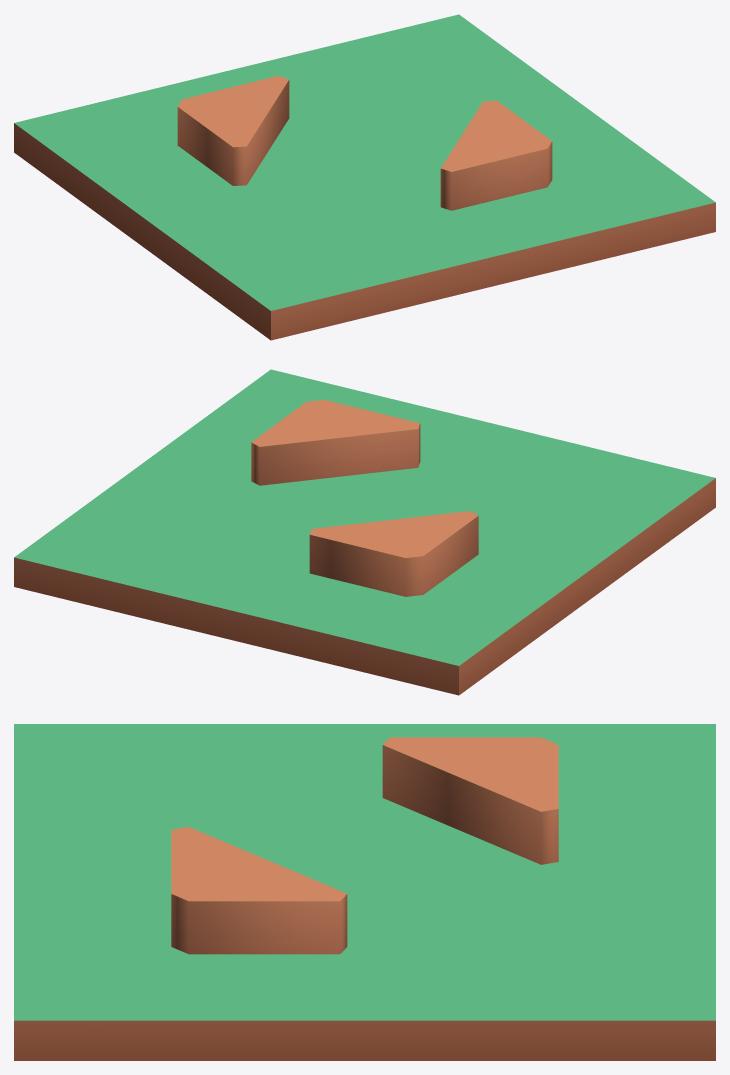
File: obstacle-triangle.glb
3 renders of one model, top to bottom at view 1: azimuth 30°, elevation 25°; view 2: azimuth 150°, elevation 25°; view 3: azimuth 270°, elevation 25°, orthographic. The views are drawn at different scales.
Visible parts, largest first — view 1: obstacle-triangle; view 2: obstacle-triangle; view 3: obstacle-triangle.
Boxes of the visible parts, bbox=[...] form: obstacle-triangle: bbox=[14, 14, 715, 340]; obstacle-triangle: bbox=[14, 369, 715, 695]; obstacle-triangle: bbox=[14, 724, 715, 1060].
Bounding box in the file's own units: 0.9999 × 0.1466 × 0.9999.
1 material, 1 textured.
